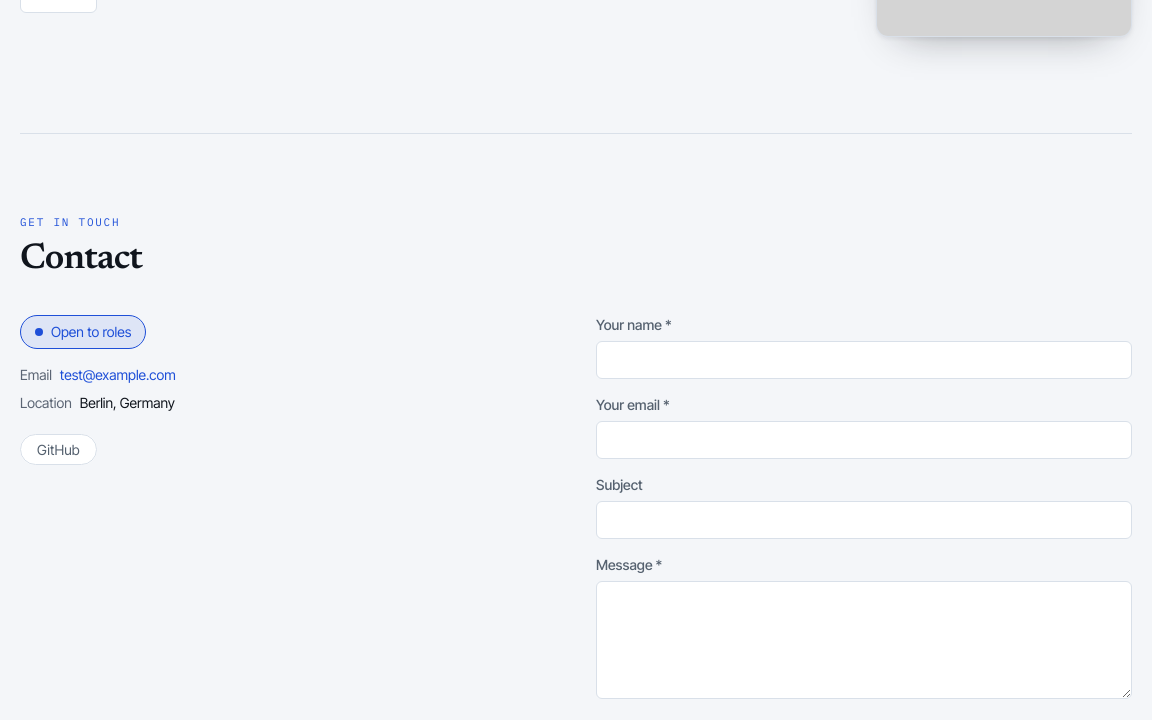
Test: contact form › submits and confirms
(page scrolled)
Step 1. Type "Recruiter" into the field labelled "Your name *" → (864, 360), box x1=596 y1=341 x2=1132 y2=379
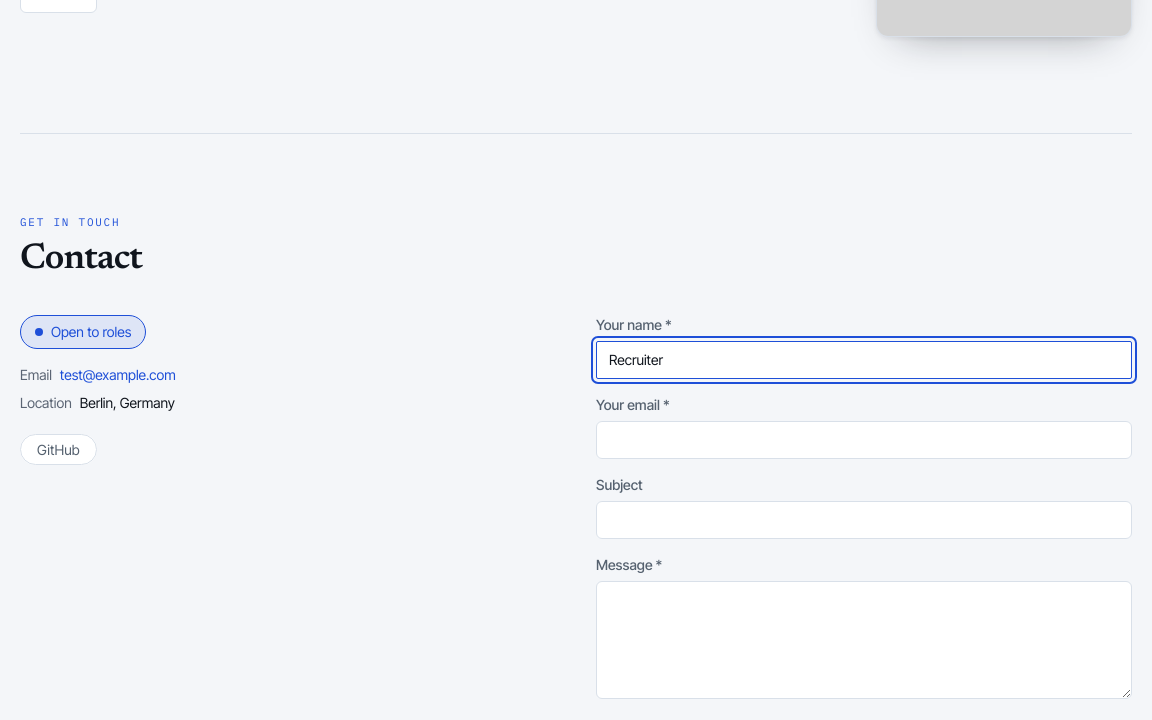
Step 2. Type "r@example.com" into the field labelled "Your email *" → (864, 440), box x1=596 y1=421 x2=1132 y2=459
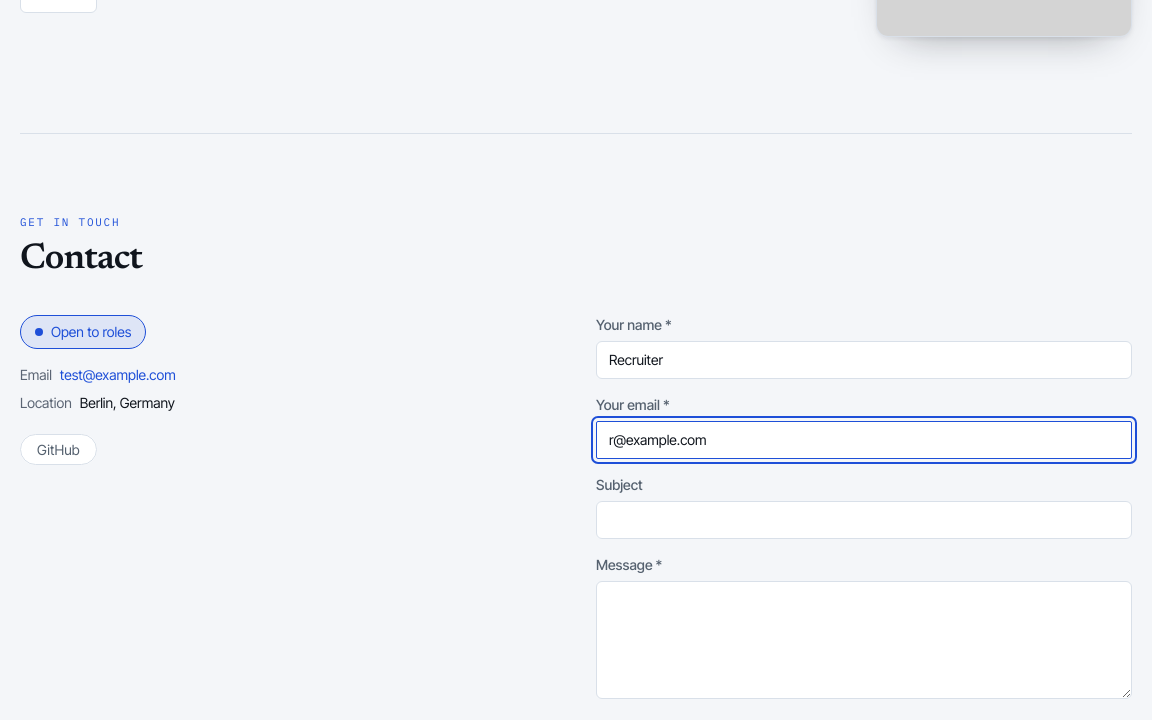
Step 3. Type "We have a role that may suit you." into the text box labelled "Message *" → (864, 640), box x1=596 y1=581 x2=1132 y2=699
(page scrolled)
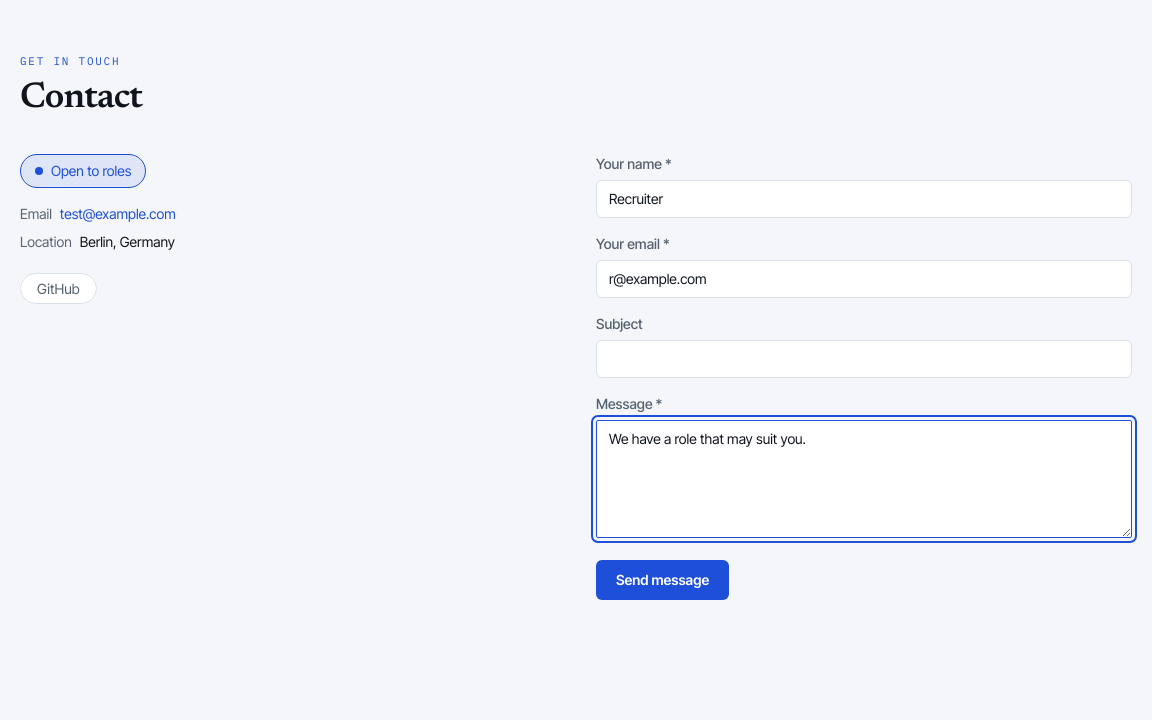
Step 4. Click the button "Send message" → (663, 580), box x1=596 y1=560 x2=729 y2=600
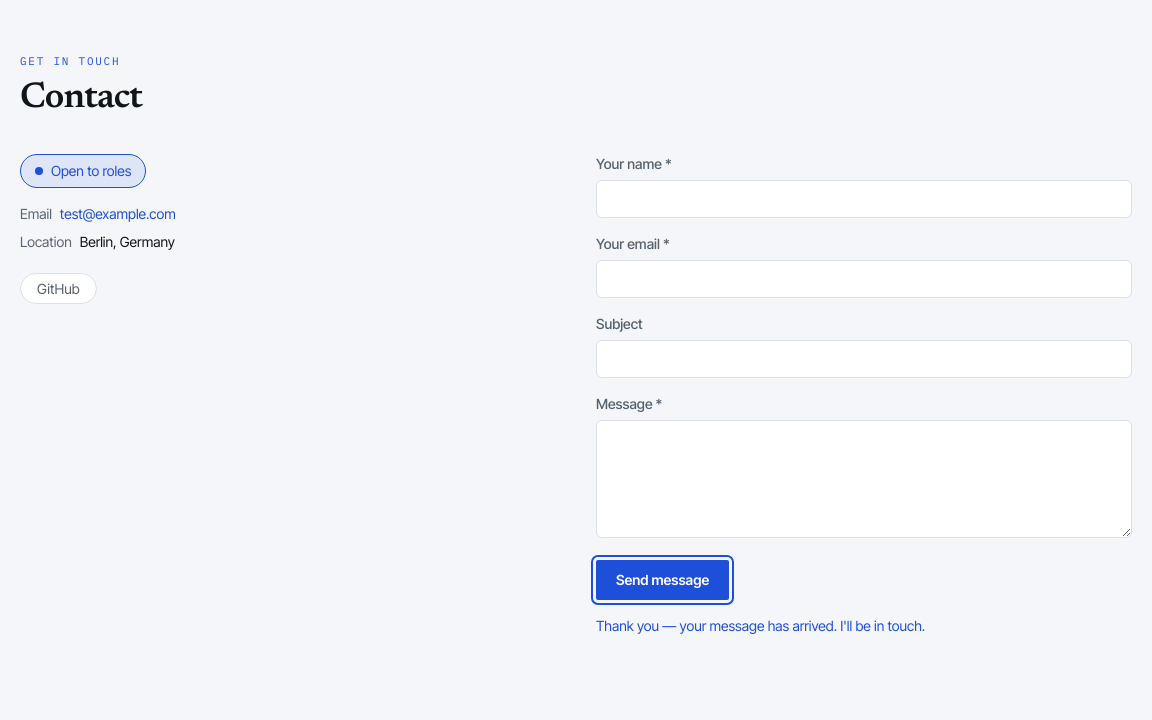
Expected: the text "Thank you — your message has arrived. I'll be in touch." is shown, x1=596 y1=617 x2=925 y2=634
